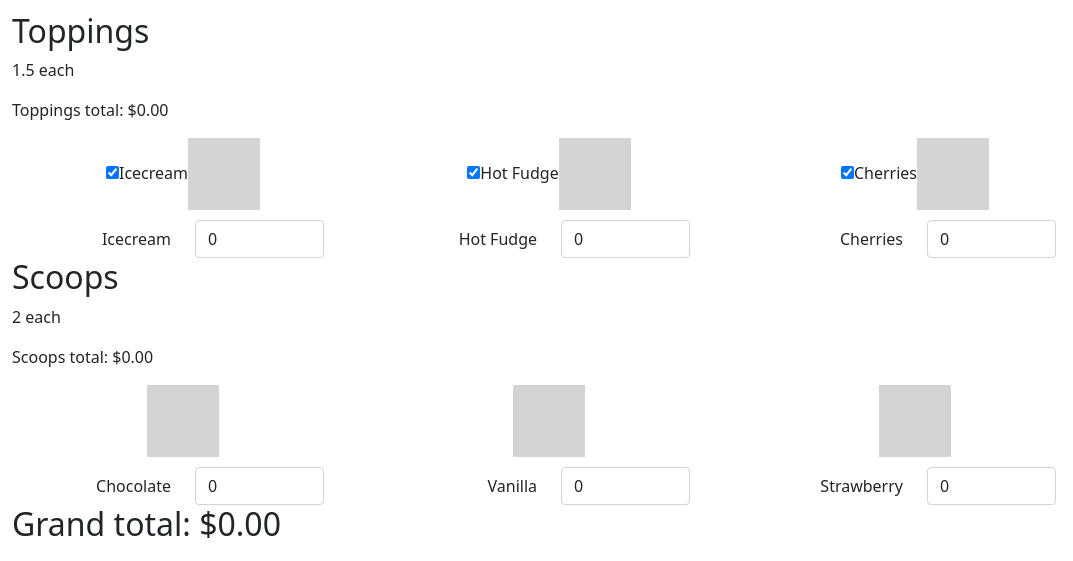
Scenario: grand total › grand total updates properly if scoop is added first
This screenshot has width=1073, height=561.
expect the heading "Grand total: $0.00" is shown: met, box [12,502,281,545]
Step 1. Replace the text in the number field labelled "Chocolate" with "1" → (259, 486), box [195,467,324,505]
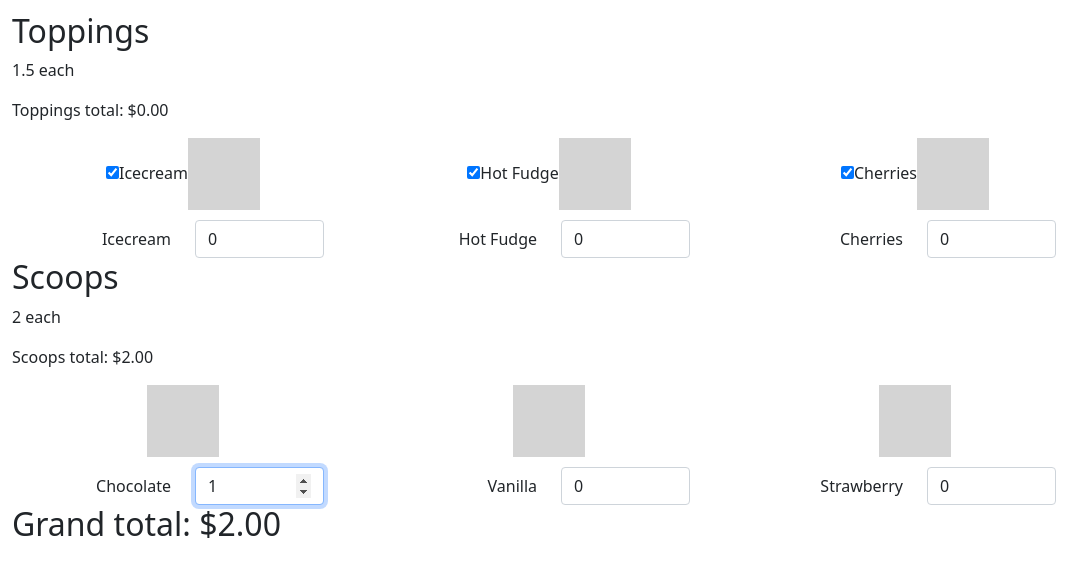
expect the heading "Grand total: $2.00" is shown: met, box [12,502,281,545]
